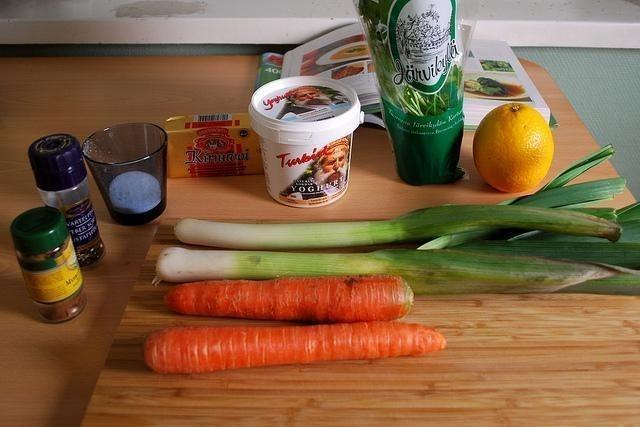glass-normal: (81, 118, 169, 223)
